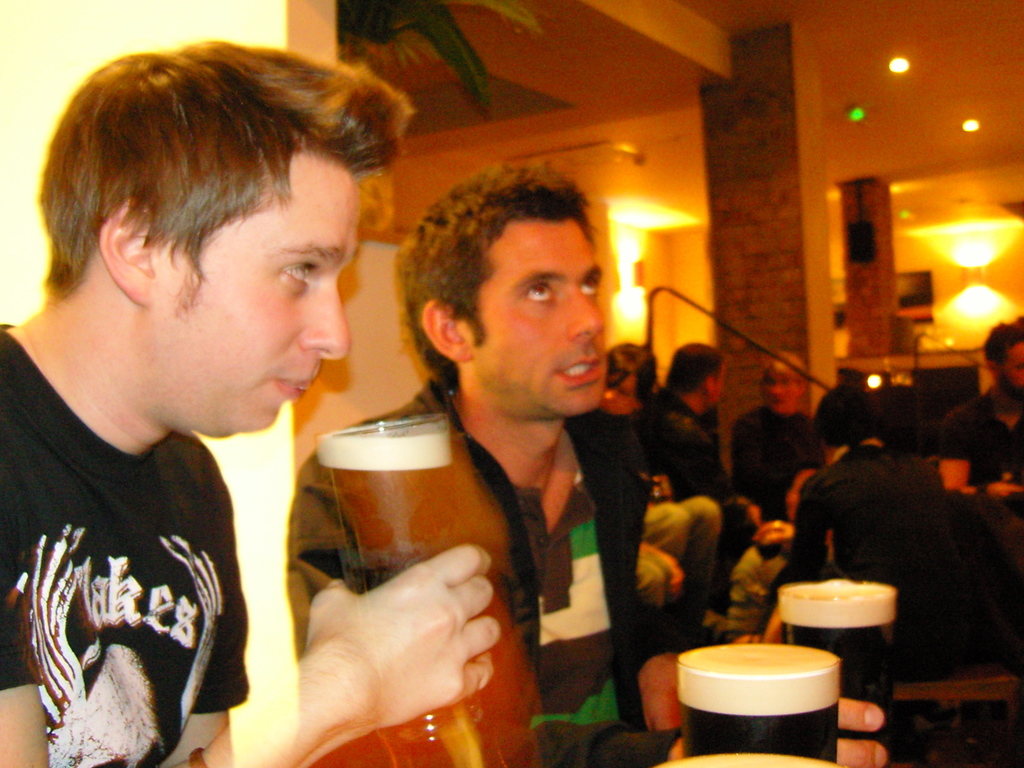Beer: (318, 432, 464, 767)
